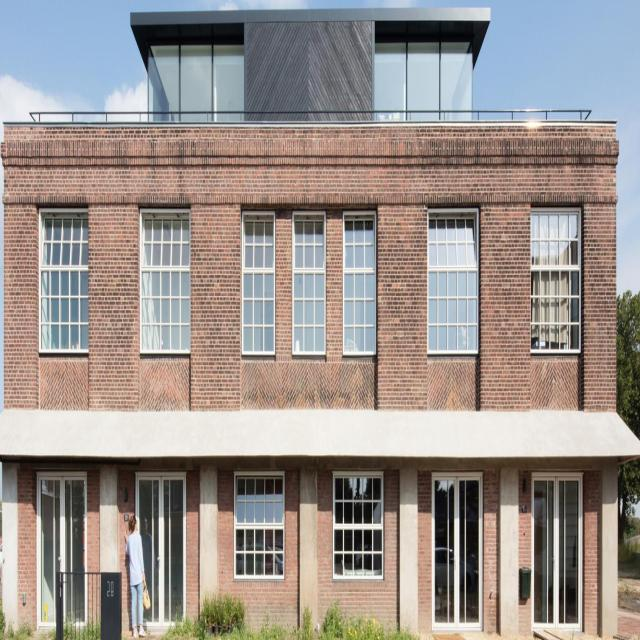door: (533, 473, 583, 629), (433, 474, 482, 629), (139, 476, 185, 629), (40, 475, 85, 625)
railing: (31, 107, 593, 126)
window: (147, 41, 245, 122), (375, 42, 473, 119), (531, 212, 581, 353), (143, 212, 192, 351), (428, 216, 476, 350), (44, 212, 92, 345), (334, 471, 384, 576), (237, 473, 286, 575), (242, 215, 276, 355), (345, 221, 375, 352), (295, 215, 324, 350)
